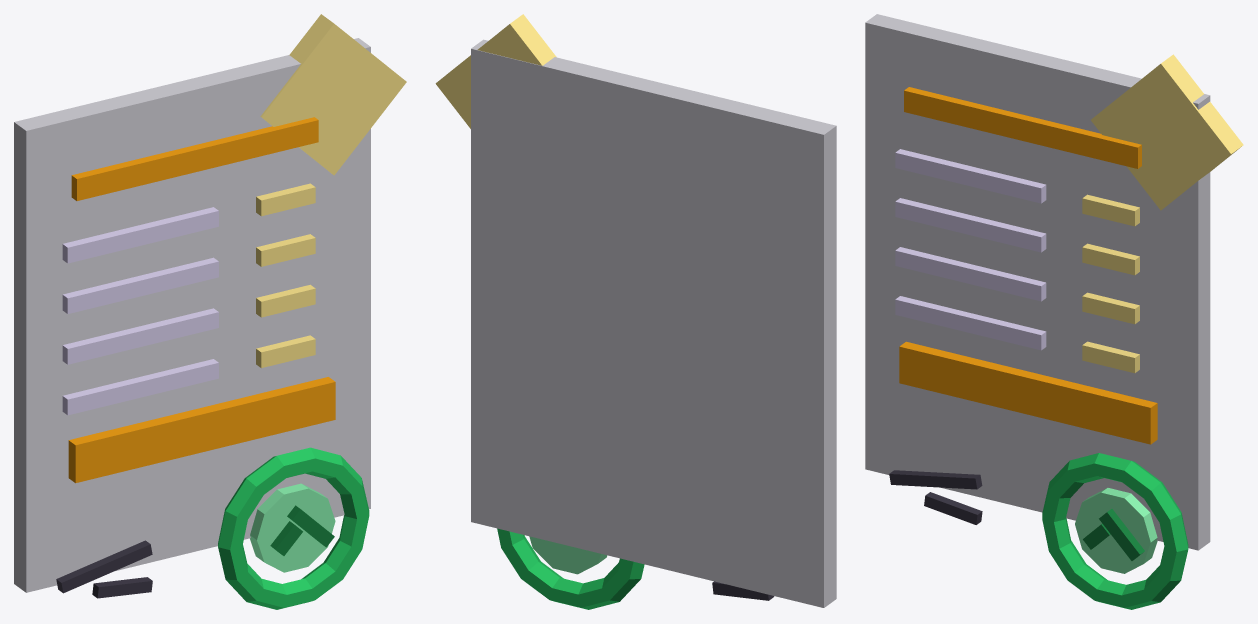
The model's file is quote.glb.
3 renders of one model, left to right at view 1: azimuth 30°, elevation 25°; view 2: azimuth 150°, elevation 25°; view 3: azimuth 330°, elevation 25°, orthographic. The views are drawn at different scales.
Parts seen in each view (by area): view 1: quote; view 2: quote; view 3: quote.
Part boxes in pixels (bbox=[...]): quote: bbox=[14, 14, 406, 609]; quote: bbox=[435, 14, 836, 609]; quote: bbox=[865, 14, 1243, 609].
Size of the model in its own units: 1.26 by 1.8 by 0.14.
